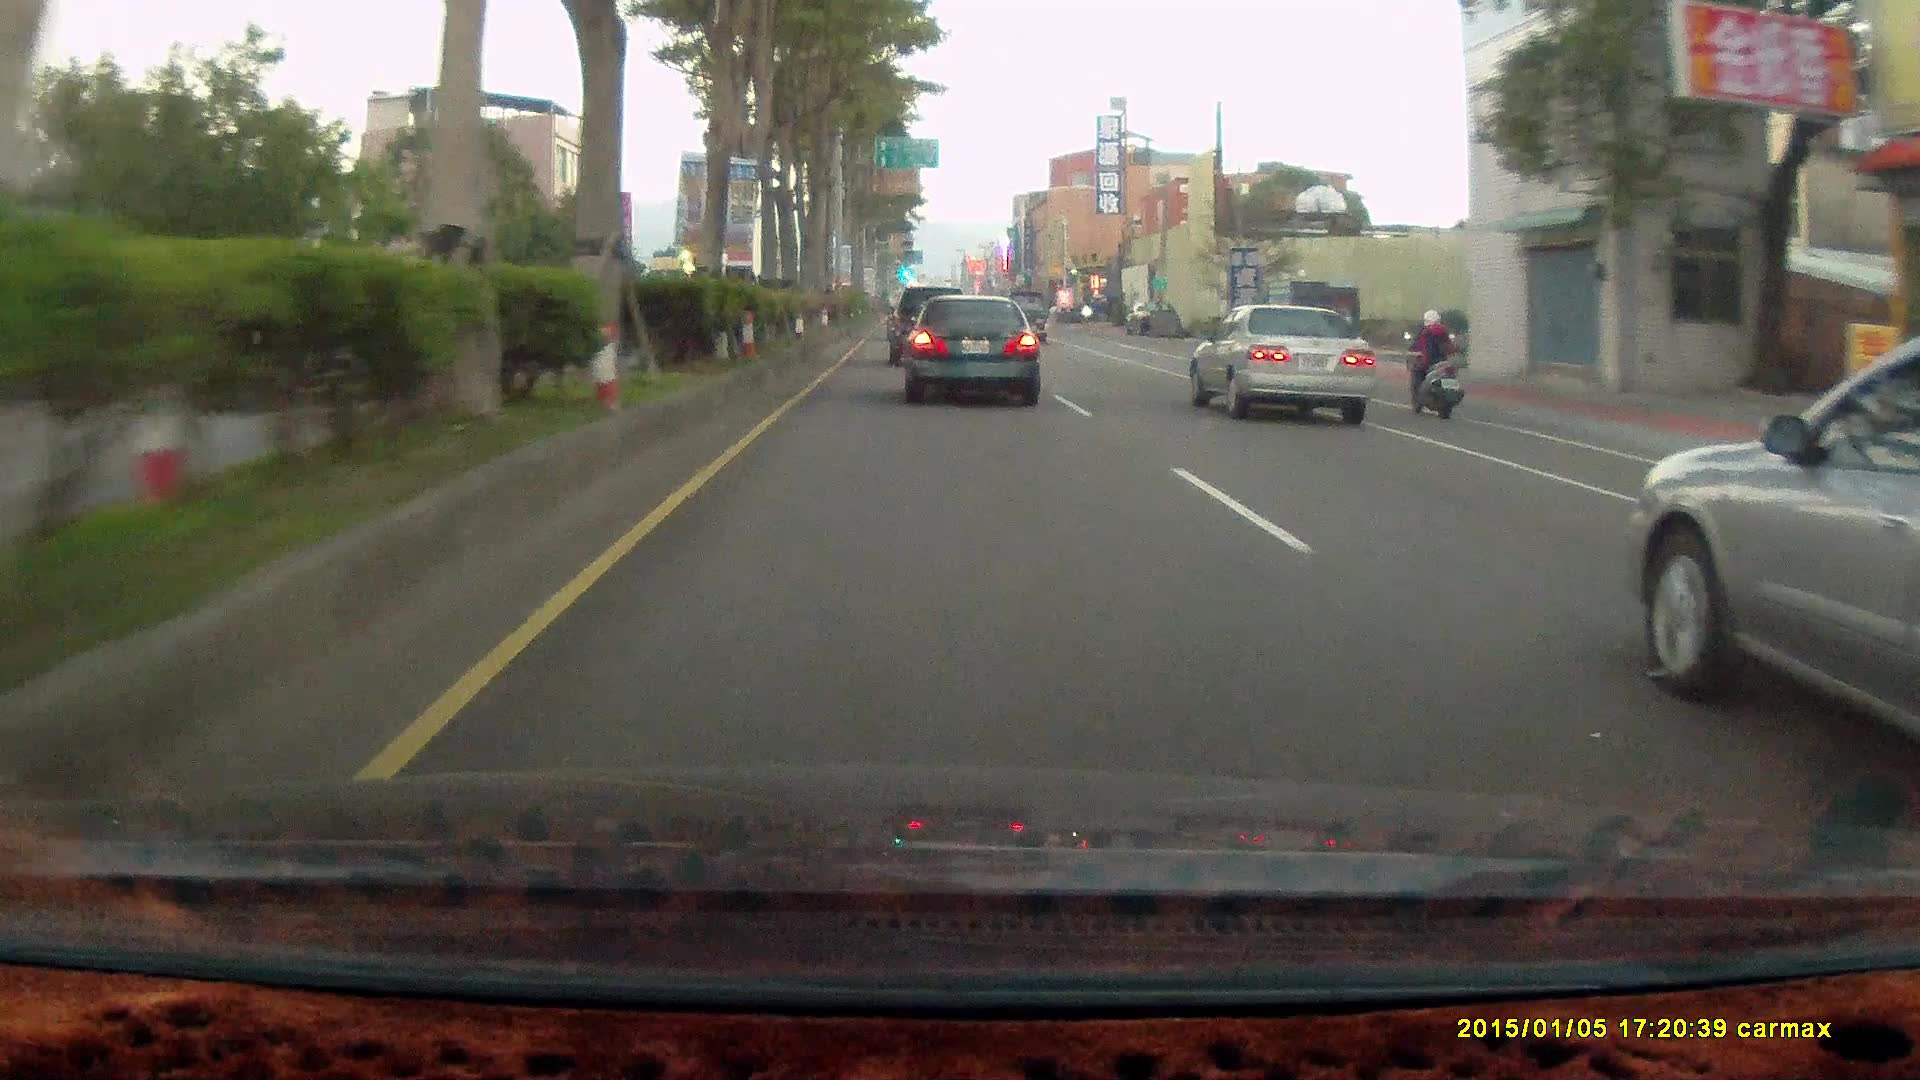rider: (1393, 297, 1475, 427), (1400, 299, 1465, 413)
vehicle: (1632, 344, 1920, 773), (1187, 299, 1374, 421), (1196, 302, 1379, 422), (901, 293, 1041, 405), (901, 291, 1039, 400), (1260, 279, 1362, 366), (888, 282, 970, 366), (888, 286, 969, 368), (1003, 286, 1049, 339), (1081, 287, 1137, 322)
